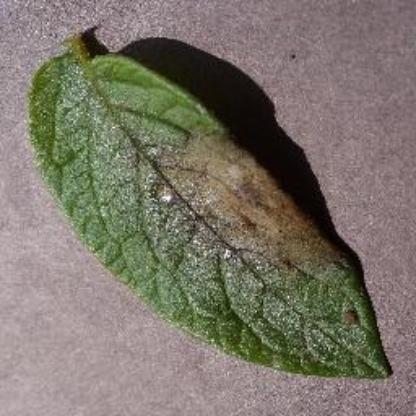Late-Blight: (20, 26, 398, 386)
